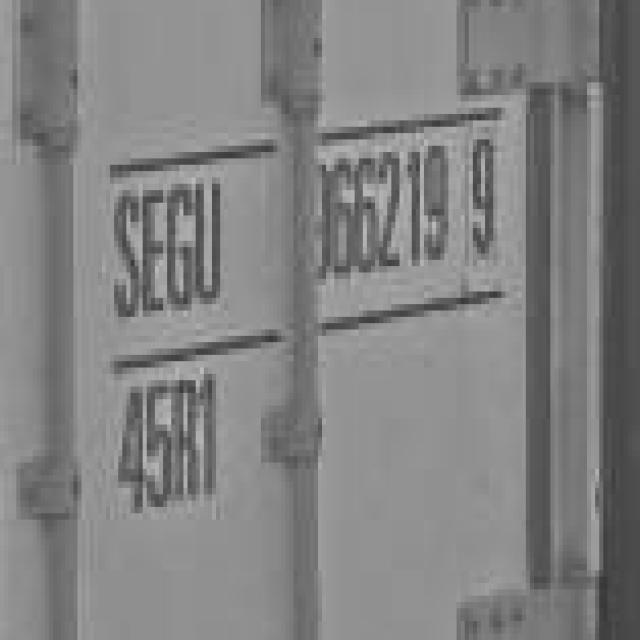dv: (462, 124, 501, 270)
owner: (102, 168, 230, 322)
serial: (302, 128, 452, 290)
size: (101, 366, 234, 518)
